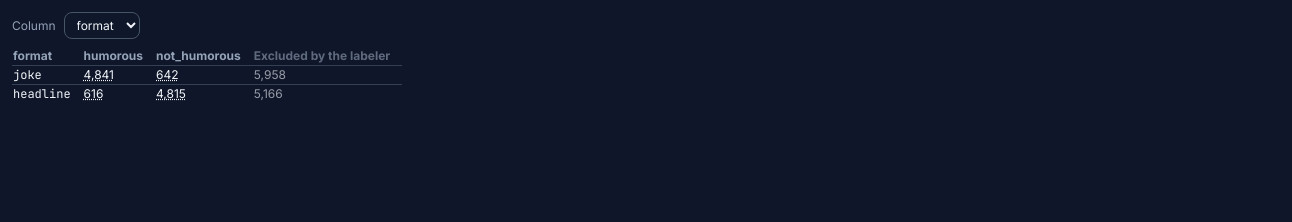
the cross-tab › renders counts with the excluded column and opens seeded samples
Expected: the column heading "Excluded by the labeler" is shown, [253,47,402,65]
Expected: the text "5,958" is shown, [253,66,402,84]
Click the button named "Samples for joke and humorous".
click(99, 75)  # box [84,67,114,83]
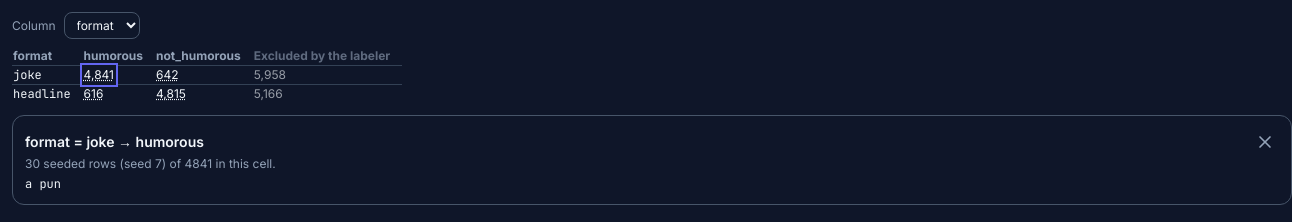
Expected: the list item "a pun" is shown, [25,176,61,192]
